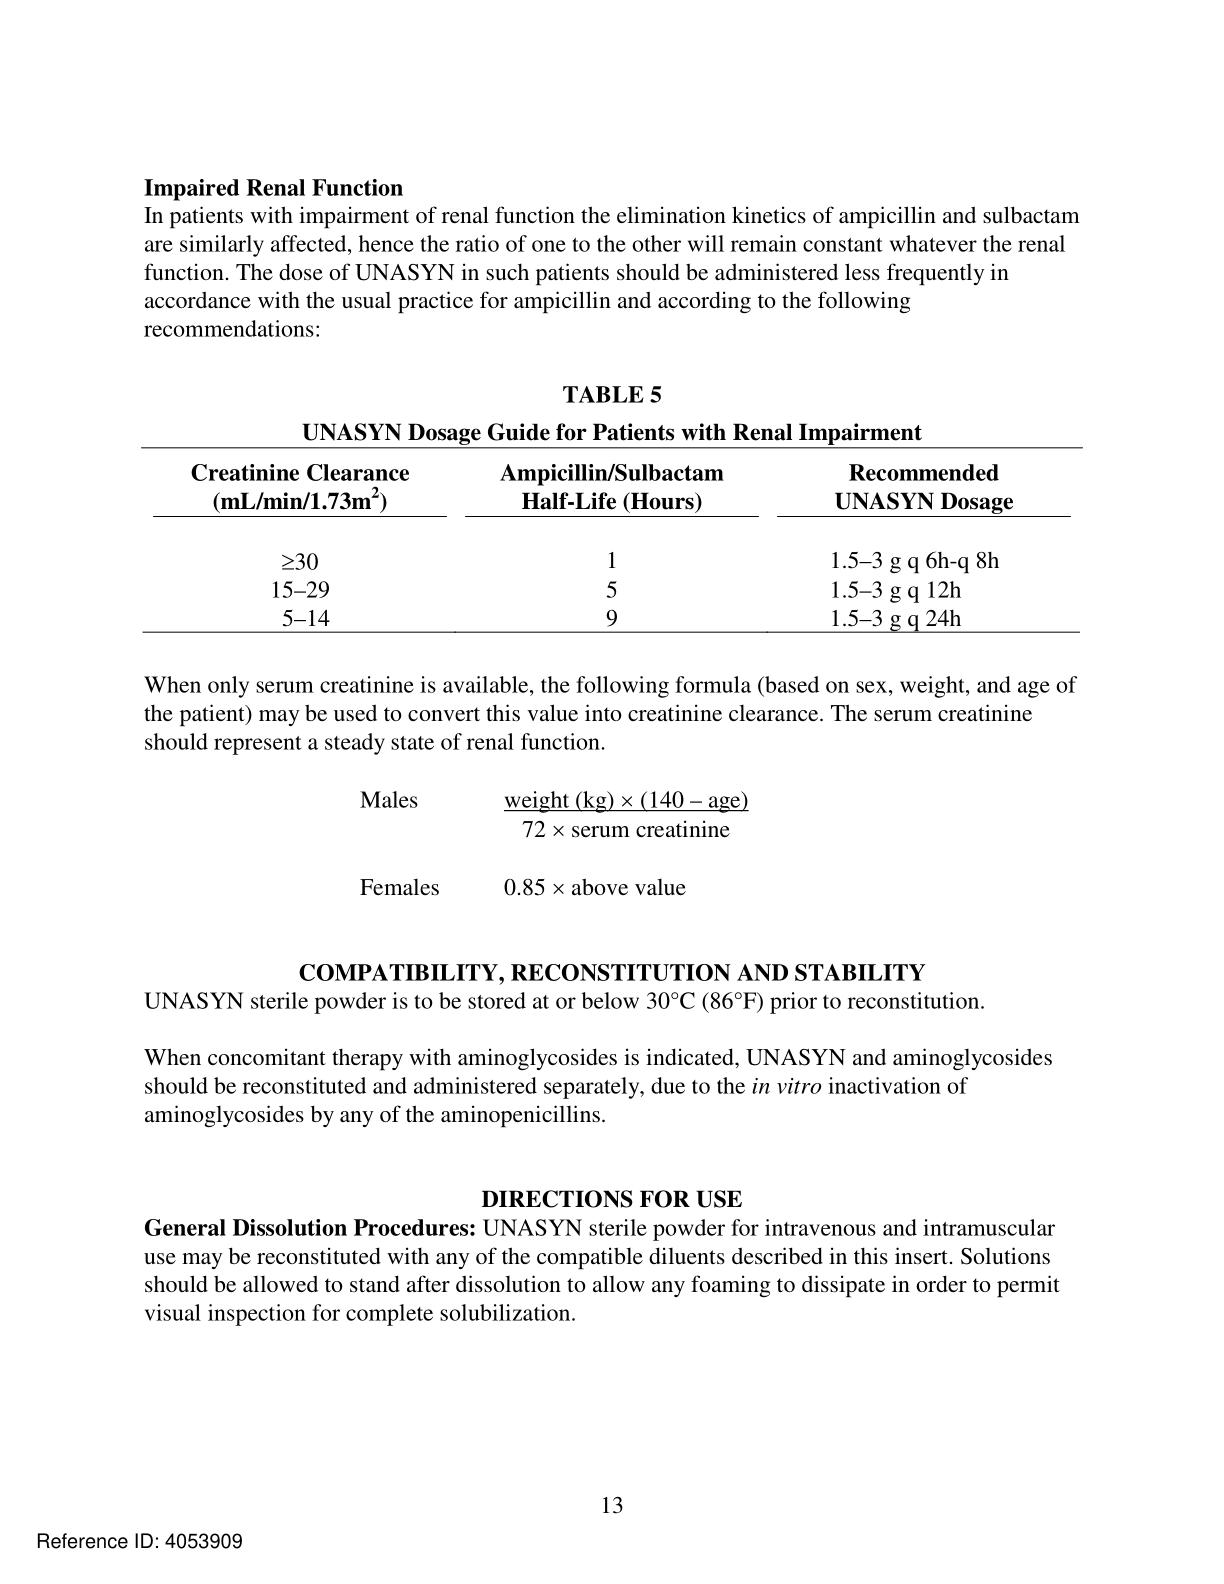partial_lined: (135, 445, 1084, 636)
